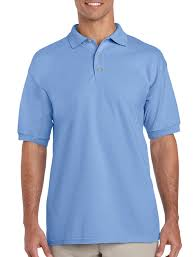S_polo shirt: (18, 19, 181, 250)
